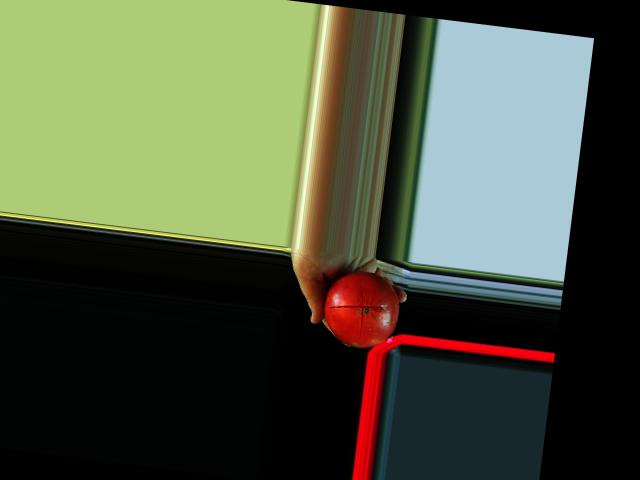tomato: (319, 266, 404, 351)
